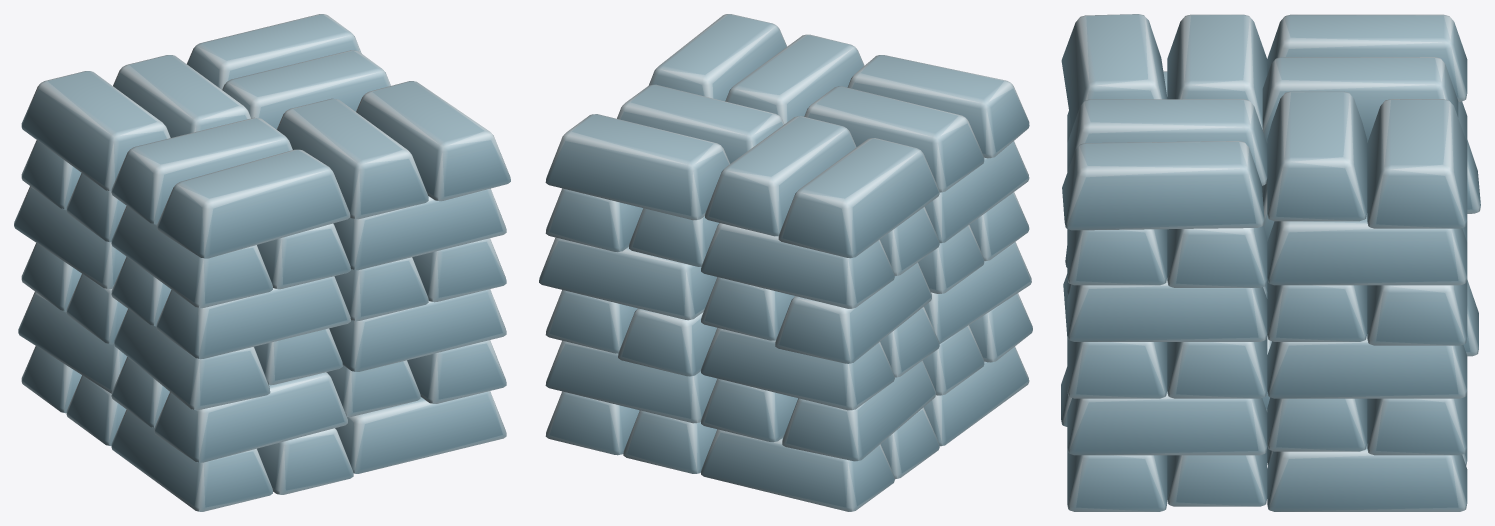
Rendered from Silver_Bars_Stack_Large.glb.
3 views of the same model, side by side, from view 1: azimuth 30°, elevation 25°; view 2: azimuth 150°, elevation 25°; view 3: azimuth 270°, elevation 25° (orthographic). The views are drawn at different scales.
Parts seen in each view (by area): view 1: Silver_Bars_Stack_Large; view 2: Silver_Bars_Stack_Large; view 3: Silver_Bars_Stack_Large.
Part boxes in pixels (x1,y1,x2,y2): Silver_Bars_Stack_Large: (14, 14, 510, 511); Silver_Bars_Stack_Large: (539, 14, 1032, 511); Silver_Bars_Stack_Large: (1061, 14, 1480, 511).
Size of the model in its own units: 1.66 by 1.5 by 1.68.
1 material, 1 textured.
